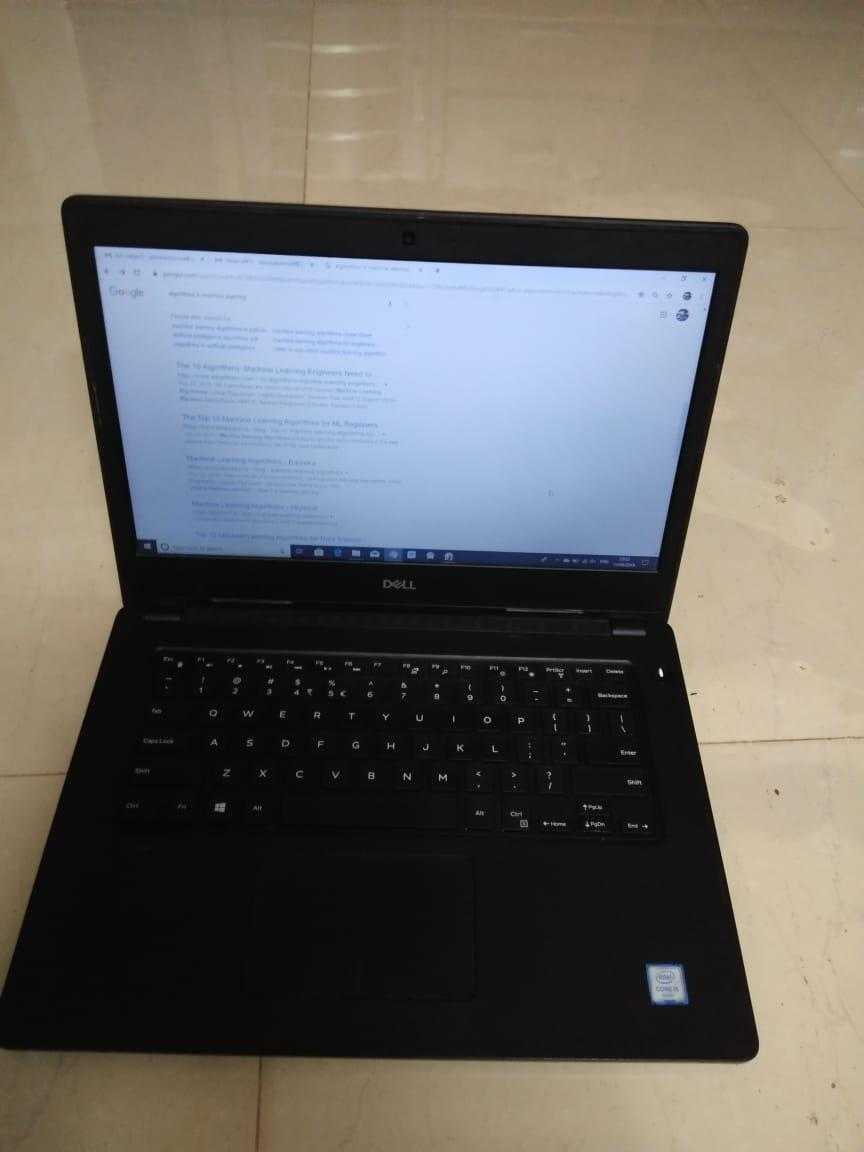laptop: (2, 176, 783, 1078)
